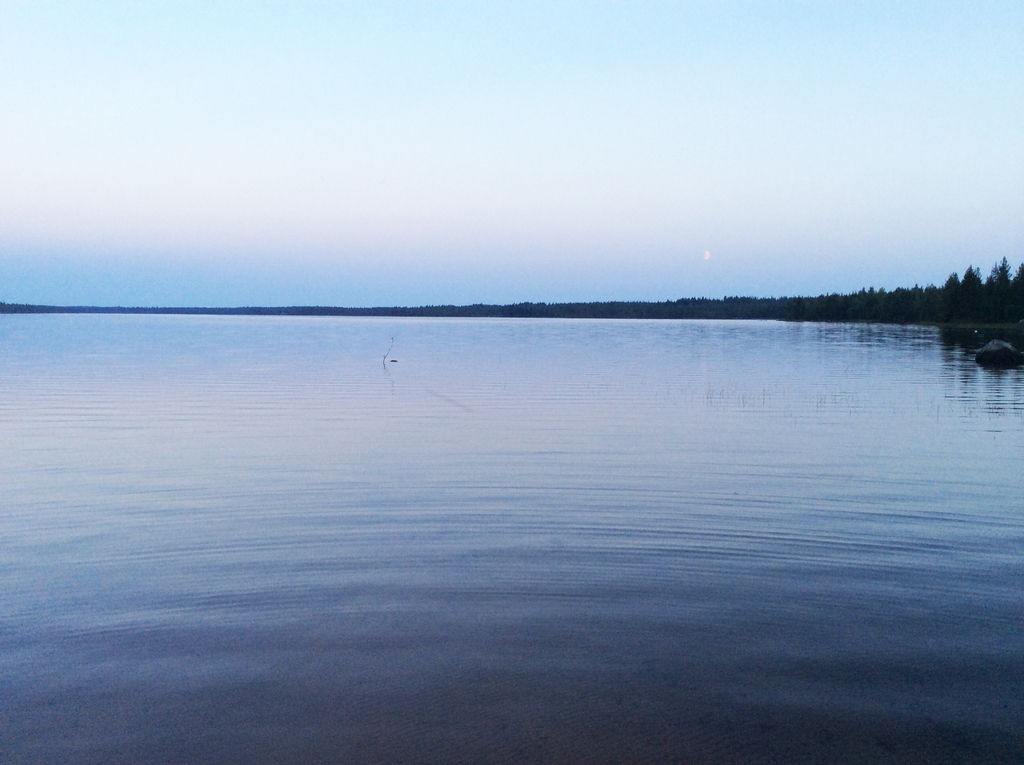Tree: (337, 252, 1023, 322)
